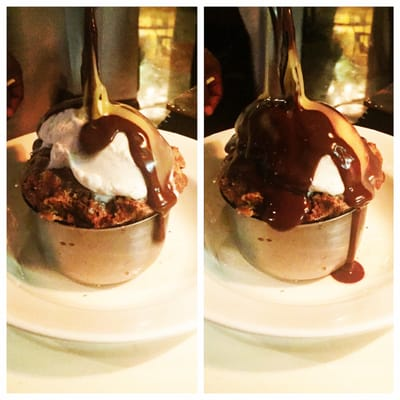curry: (204, 124, 399, 394)
sushi: (217, 19, 385, 284)
